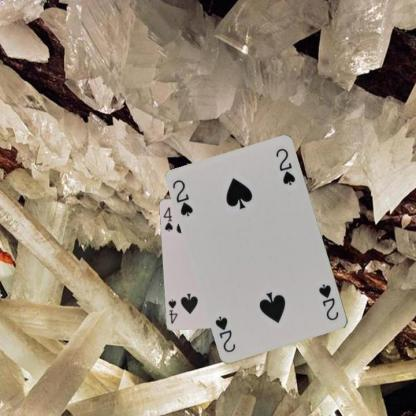2s: (170, 177, 195, 218), (316, 281, 340, 322)
4s: (161, 204, 175, 233)
